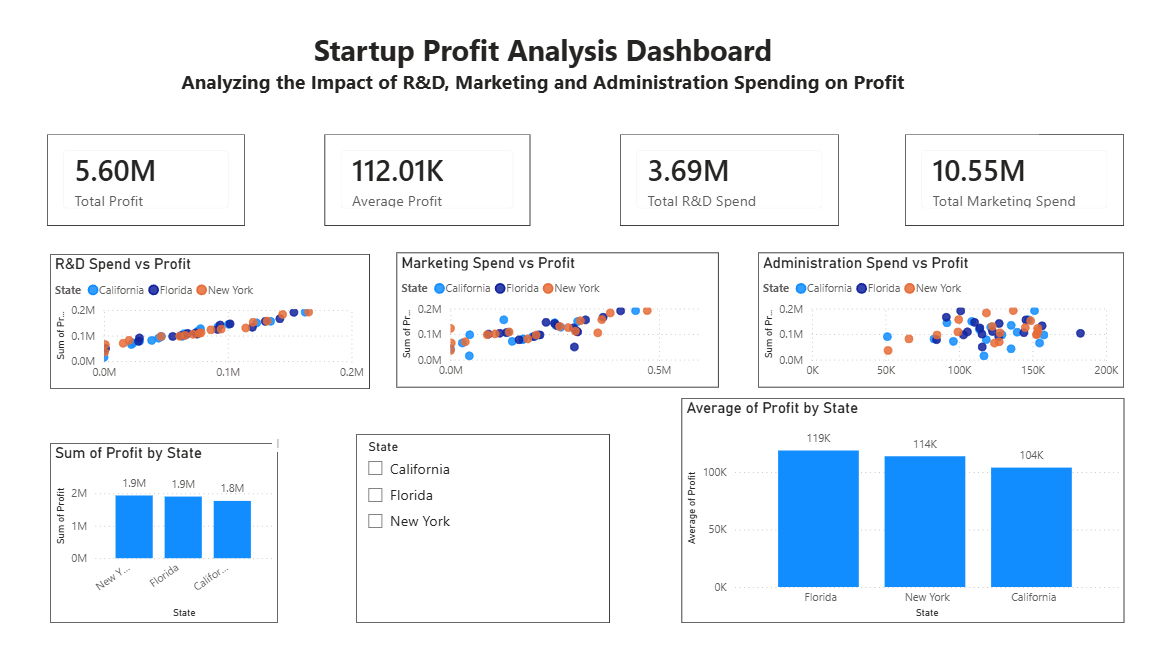

Layout of this report page (visuals, bound fields, positions):
{"tool":"powerbi","page":{"name":"Page 1","canvas":[1280,720],"ordinal":0},"visuals":[{"type":"cardVisual","fields":{"Data":["Sum(profit_analysis_dataset.Profit)"]},"box":[53.3,150,220,101.7],"z":0},{"type":"cardVisual","fields":{"Data":["Avg(profit_analysis_dataset.Profit)"]},"box":[361.7,150,228.3,101.7],"z":1000},{"type":"cardVisual","fields":{"Data":["Sum(profit_analysis_dataset.RD_Spend)"]},"box":[690,150,243.3,101.7],"z":2000},{"type":"cardVisual","fields":{"Data":["Sum(profit_analysis_dataset.Marketing_Spend)"]},"box":[1006.7,150,243.3,101.7],"z":3000},{"type":"scatterChart","title":"R&D Spend vs Profit","fields":{"X":["Sum(profit_analysis_dataset.RD_Spend)"],"Y":["Sum(profit_analysis_dataset.Profit)"],"Category":["profit_analysis_dataset.Startup_ID."],"Series":["profit_analysis_dataset.State"]},"box":[56.7,283.3,355,150],"z":4000},{"type":"scatterChart","title":"Marketing Spend vs Profit","fields":{"X":["Sum(profit_analysis_dataset.Marketing_Spend)"],"Y":["Sum(profit_analysis_dataset.Profit)"],"Category":["profit_analysis_dataset.Startup_ID."],"Series":["profit_analysis_dataset.State"]},"box":[442,282,358,150],"z":5000},{"type":"scatterChart","title":"Administration Spend vs Profit","fields":{"X":["Sum(profit_analysis_dataset.Administration)"],"Y":["Sum(profit_analysis_dataset.Profit)"],"Category":["profit_analysis_dataset.Startup_ID."],"Series":["profit_analysis_dataset.State"]},"box":[843.3,281.7,406.7,150],"z":6000},{"type":"clusteredColumnChart","fields":{"Category":["profit_analysis_dataset.State"],"Y":["Sum(profit_analysis_dataset.Profit)"]},"box":[56.7,493.3,253.3,200],"z":7000},{"type":"slicer","fields":{"Values":["profit_analysis_dataset.State"]},"box":[396.7,483.3,281.7,210],"z":8000},{"type":"clusteredColumnChart","fields":{"Category":["profit_analysis_dataset.State"],"Y":["Avg(profit_analysis_dataset.Profit)"]},"box":[758,444,492,250],"z":9000},{"type":"textbox","box":[304,484,12,20],"z":10000},{"type":"textbox","box":[54,28,1102,122],"z":11000}]}

Visuals, with their boxes in screenshot pixels (x1, y1, x2, y2), scaled from the page's 1280x720 canvas onto the 1149x646 screenshot:
cardVisual - Sum(profit_analysis_dataset.Profit): {"left": 48, "top": 135, "right": 245, "bottom": 226}
cardVisual - Avg(profit_analysis_dataset.Profit): {"left": 325, "top": 135, "right": 530, "bottom": 226}
cardVisual - Sum(profit_analysis_dataset.RD_Spend): {"left": 619, "top": 135, "right": 838, "bottom": 226}
cardVisual - Sum(profit_analysis_dataset.Marketing_Spend): {"left": 904, "top": 135, "right": 1122, "bottom": 226}
"R&D Spend vs Profit" scatterChart: {"left": 51, "top": 254, "right": 370, "bottom": 389}
"Marketing Spend vs Profit" scatterChart: {"left": 397, "top": 253, "right": 718, "bottom": 388}
"Administration Spend vs Profit" scatterChart: {"left": 757, "top": 253, "right": 1122, "bottom": 387}
clusteredColumnChart - profit_analysis_dataset.State x Sum(profit_analysis_dataset.Profit): {"left": 51, "top": 443, "right": 278, "bottom": 622}
slicer - profit_analysis_dataset.State: {"left": 356, "top": 434, "right": 609, "bottom": 622}
clusteredColumnChart - profit_analysis_dataset.State x Avg(profit_analysis_dataset.Profit): {"left": 680, "top": 398, "right": 1122, "bottom": 623}
textbox: {"left": 273, "top": 434, "right": 284, "bottom": 452}
textbox: {"left": 48, "top": 25, "right": 1038, "bottom": 135}
